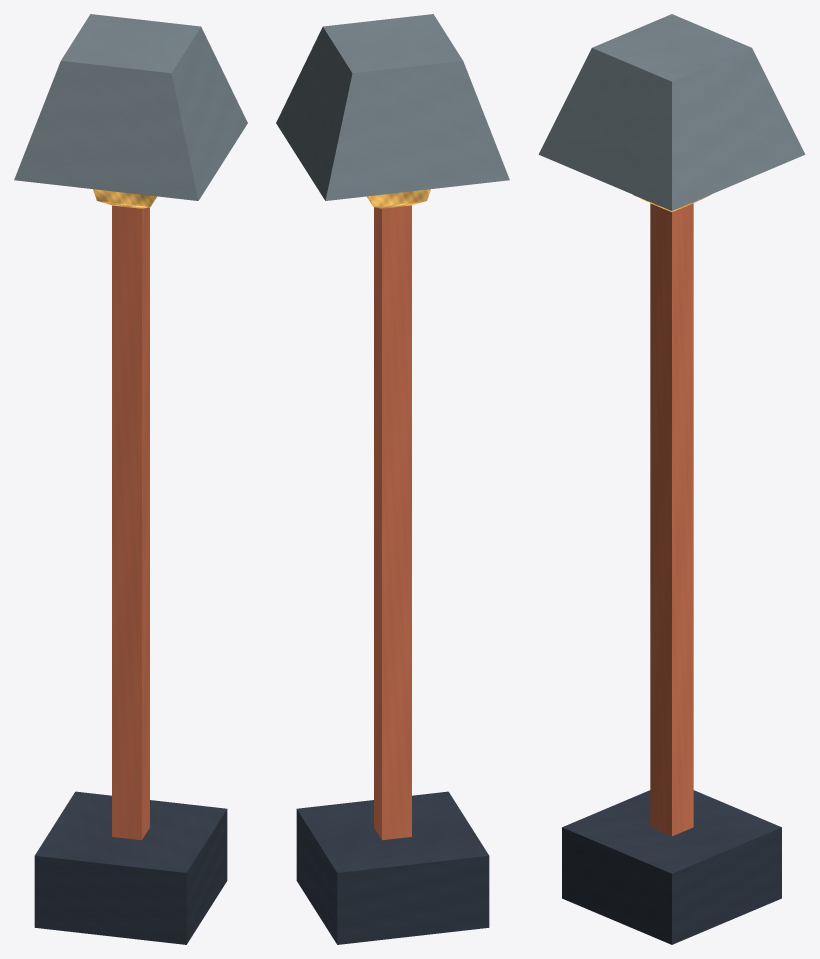
The model's file is atlas100-basalt-util01.lod1.glb.
3 views of the same model, side by side, from view 1: azimuth 30°, elevation 25°; view 2: azimuth 150°, elevation 25°; view 3: azimuth 270°, elevation 25° (orthographic).
Parts seen in each view (by area): view 1: atlas100-basalt-util01:part-002, atlas100-basalt-util01:part-001, atlas100-basalt-util01:part-000, atlas100-basalt-util01:part-003; view 2: atlas100-basalt-util01:part-002, atlas100-basalt-util01:part-001, atlas100-basalt-util01:part-000, atlas100-basalt-util01:part-003; view 3: atlas100-basalt-util01:part-002, atlas100-basalt-util01:part-001, atlas100-basalt-util01:part-000.
Part boxes in pixels (x1,y1,x2,y2): atlas100-basalt-util01:part-002: (14, 14, 247, 200); atlas100-basalt-util01:part-001: (112, 205, 149, 840); atlas100-basalt-util01:part-000: (34, 791, 227, 944); atlas100-basalt-util01:part-003: (93, 189, 156, 208); atlas100-basalt-util01:part-002: (276, 14, 509, 200); atlas100-basalt-util01:part-001: (374, 205, 411, 840); atlas100-basalt-util01:part-000: (296, 791, 489, 944); atlas100-basalt-util01:part-003: (367, 189, 430, 208); atlas100-basalt-util01:part-002: (538, 14, 805, 210); atlas100-basalt-util01:part-001: (650, 203, 693, 836); atlas100-basalt-util01:part-000: (562, 790, 781, 944).
Bounding box in the file's own units: 0.6956 × 2.44 × 0.6956.
4 materials, 4 textured.
